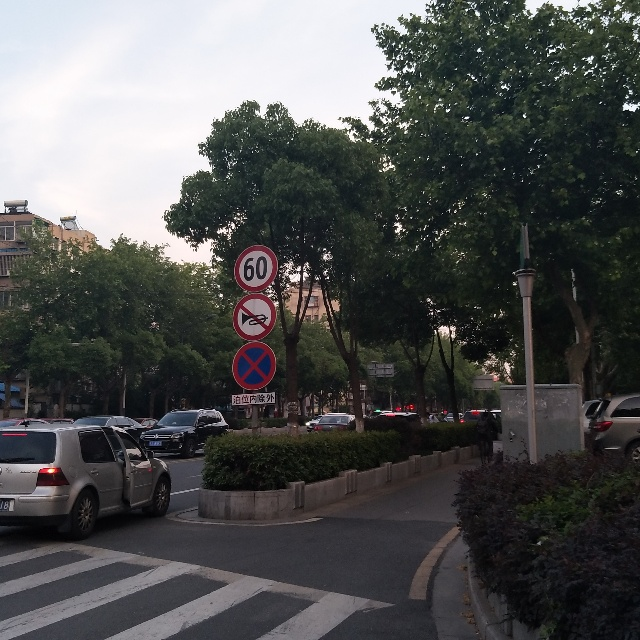nohonk: (235, 298, 269, 335)
stop: (231, 346, 274, 389)
